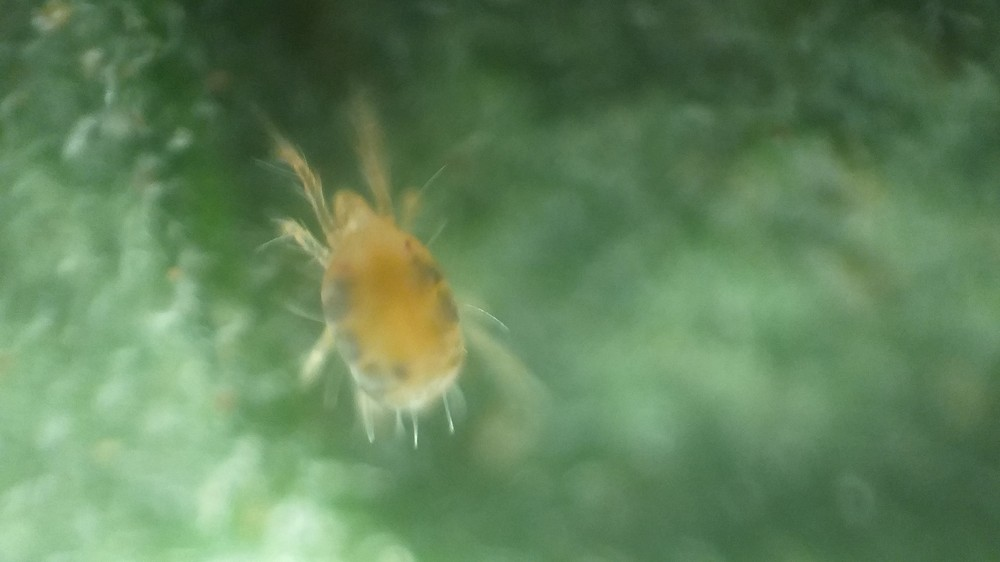Aracnido Rojo: (225, 92, 536, 459)
